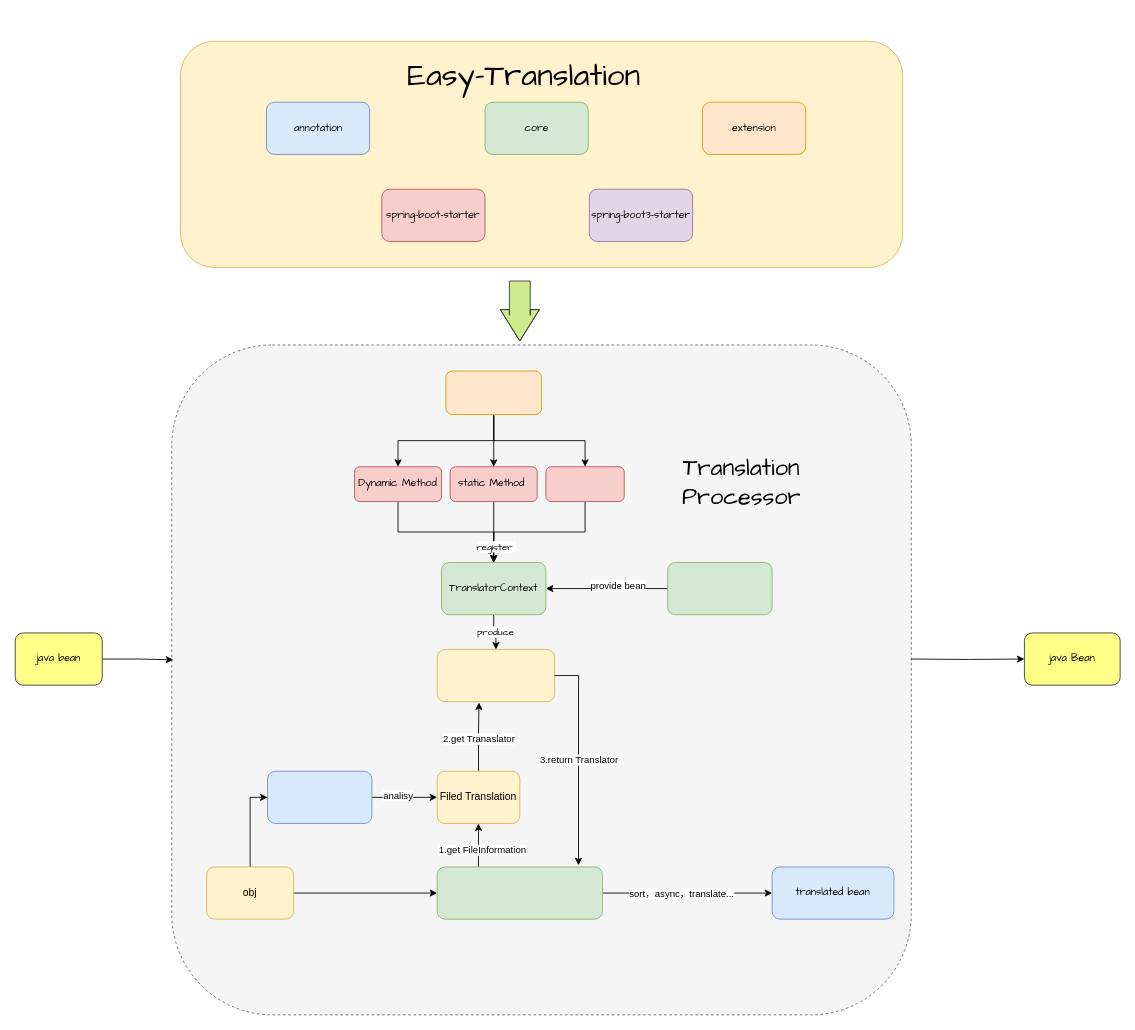
Image size: 1135x1030. Some labels were removed from this diagram. Here are the shapes that lost their labels. From the top down, the centre of each, then its label:
At pixel 493 392: "TranslatorReader".
At pixel 584 484: "Enum".
At pixel 719 588: "InvokeBeanFacotry".
At pixel 495 675: "Translator".
At pixel 319 796: "Class Infomation".
At pixel 519 892: "FieldTranslationHandler".
